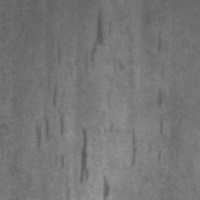inclusion: (32, 85, 70, 169), (72, 12, 107, 75), (76, 122, 93, 185), (45, 57, 64, 110), (126, 124, 143, 169), (98, 172, 112, 199), (153, 83, 167, 110), (152, 26, 165, 55), (155, 113, 167, 138)
